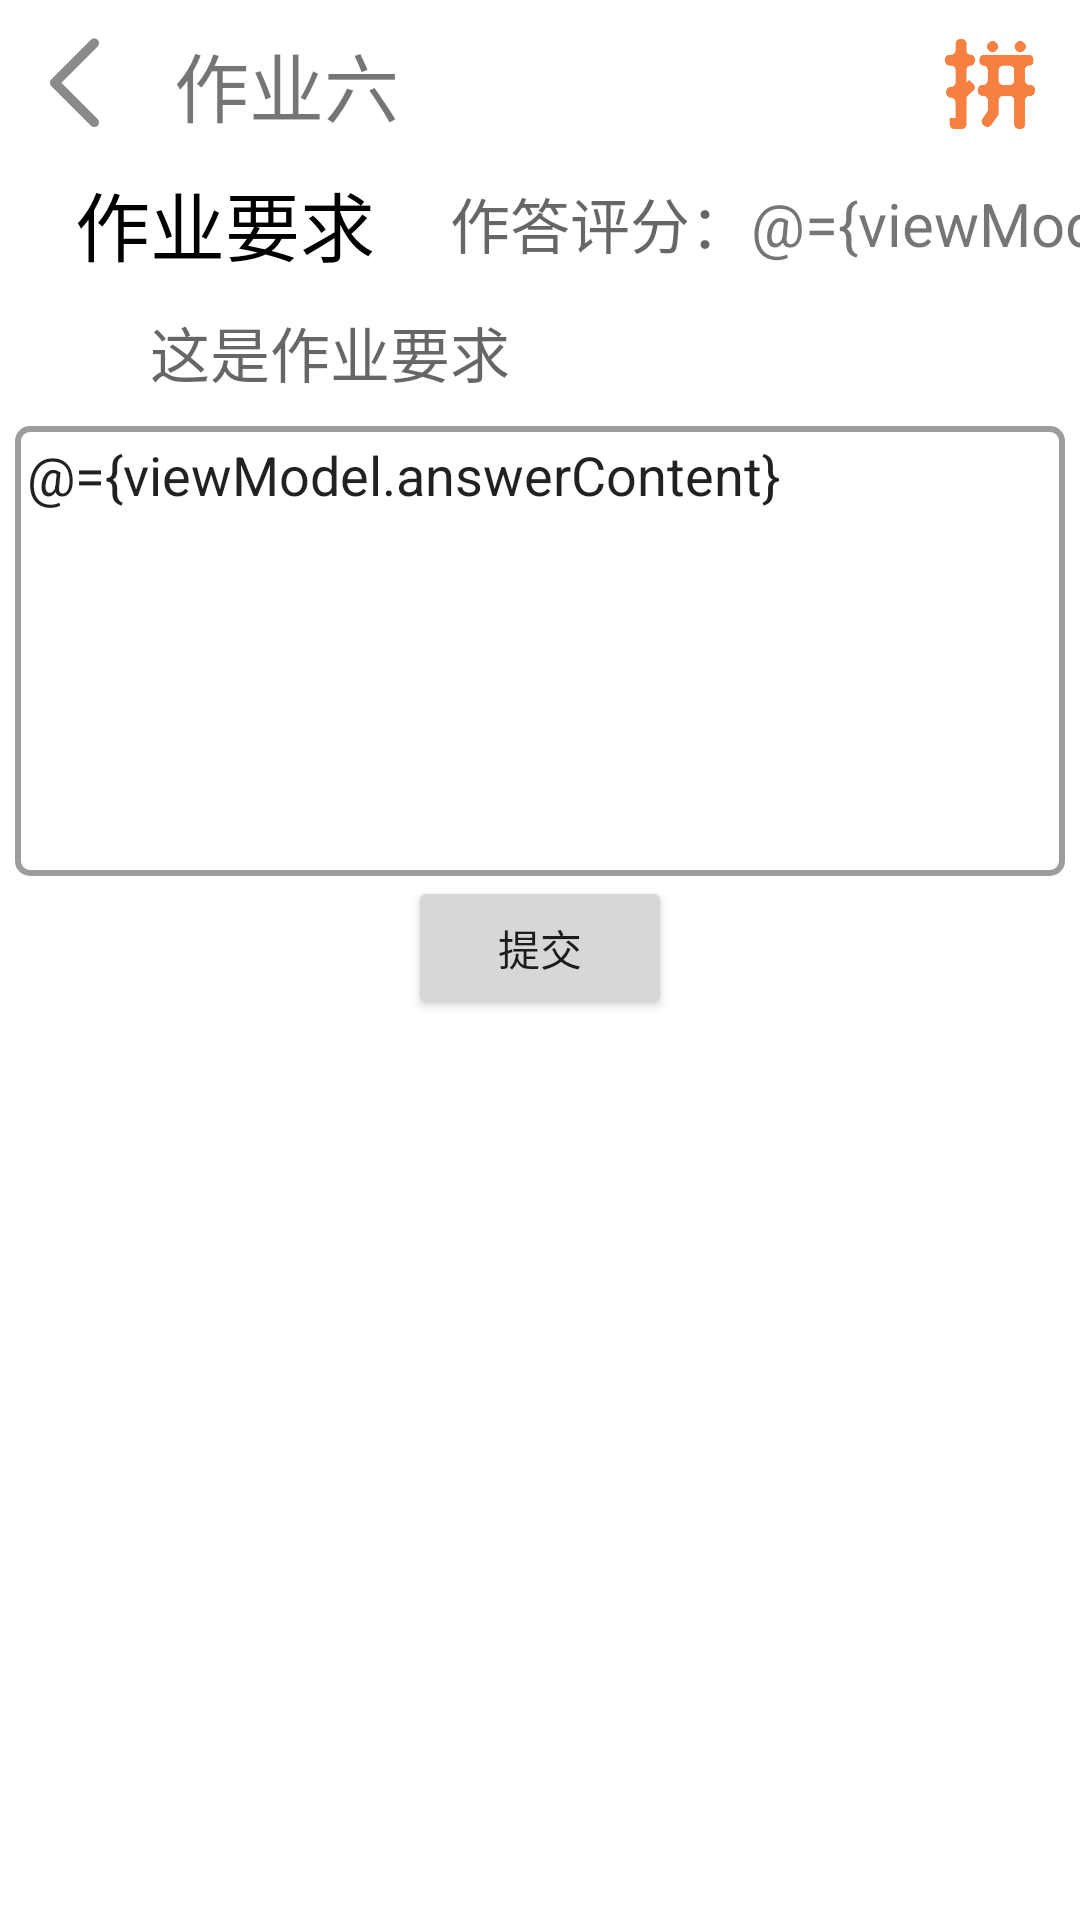

Icons on this 1080 × 1920 Android screen, each with its box as (x1, y1, x2, y2):
back: (50, 38, 99, 127)
